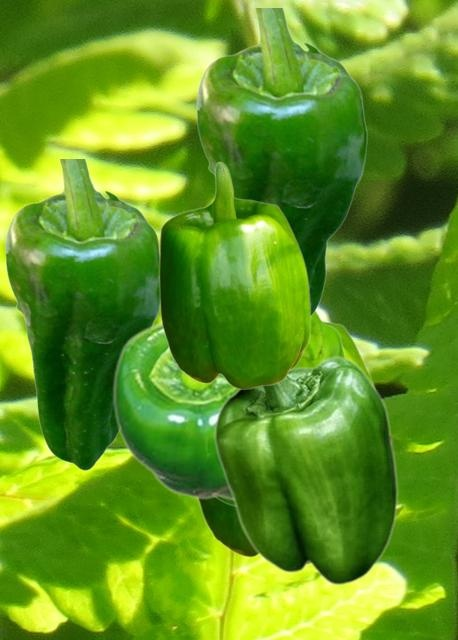bell_pepper: (195, 8, 367, 317), (4, 159, 158, 470), (197, 320, 375, 565), (213, 353, 398, 585), (158, 161, 310, 389), (216, 310, 346, 506), (111, 319, 235, 500)
